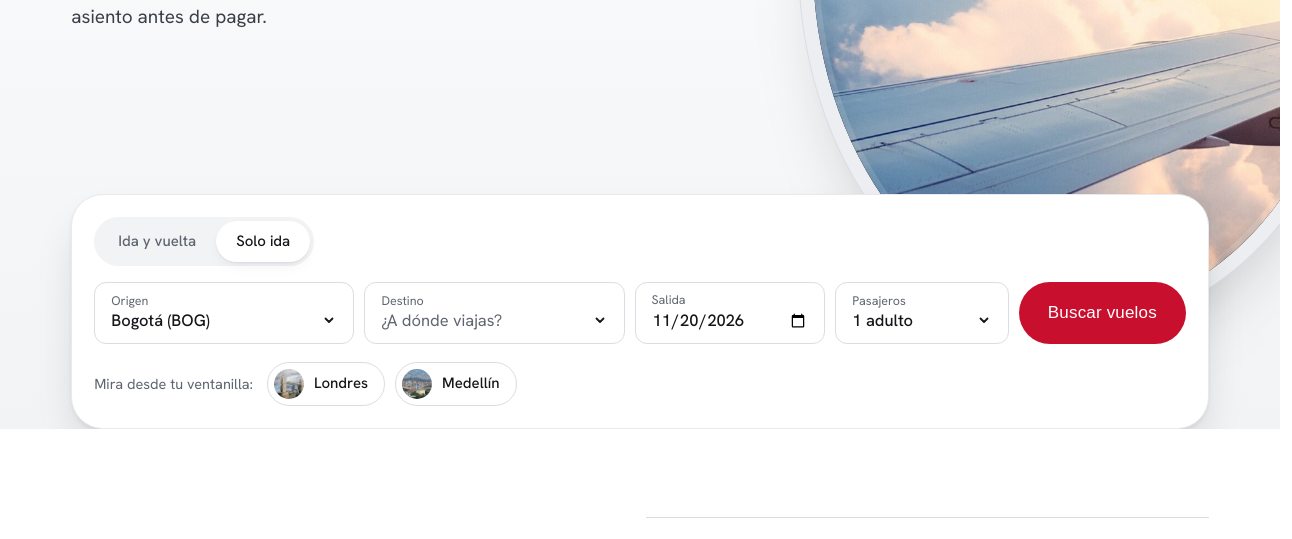
Test: Home: autocompletar de origen y destino › si se elige como origen el destino ya elegido, el destino se limpia
(page scrolled)
Expected: the dropdown labelled "Origen" holds "Bogotá (BOG)", left=111, top=308, right=337, bottom=332
Click the dropdown labelled "Destino" at (494, 320), box left=381, top=308, right=608, bottom=332
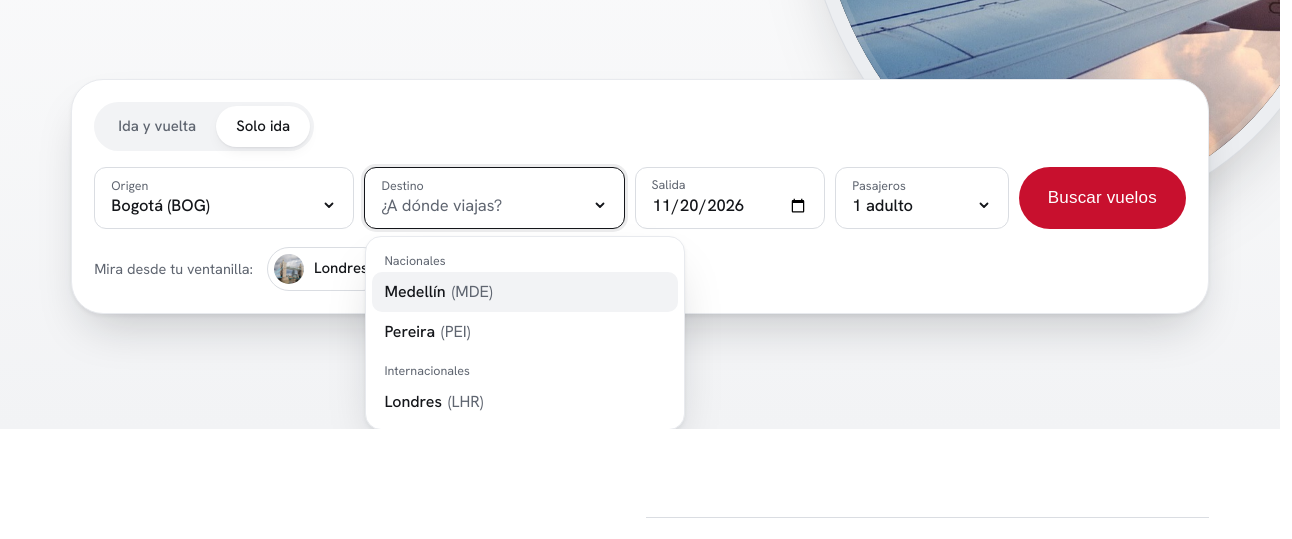
Type "pereira" into the dropdown labelled "Destino" at (494, 205), box left=381, top=193, right=608, bottom=217
Then press Enter
(page scrolled)
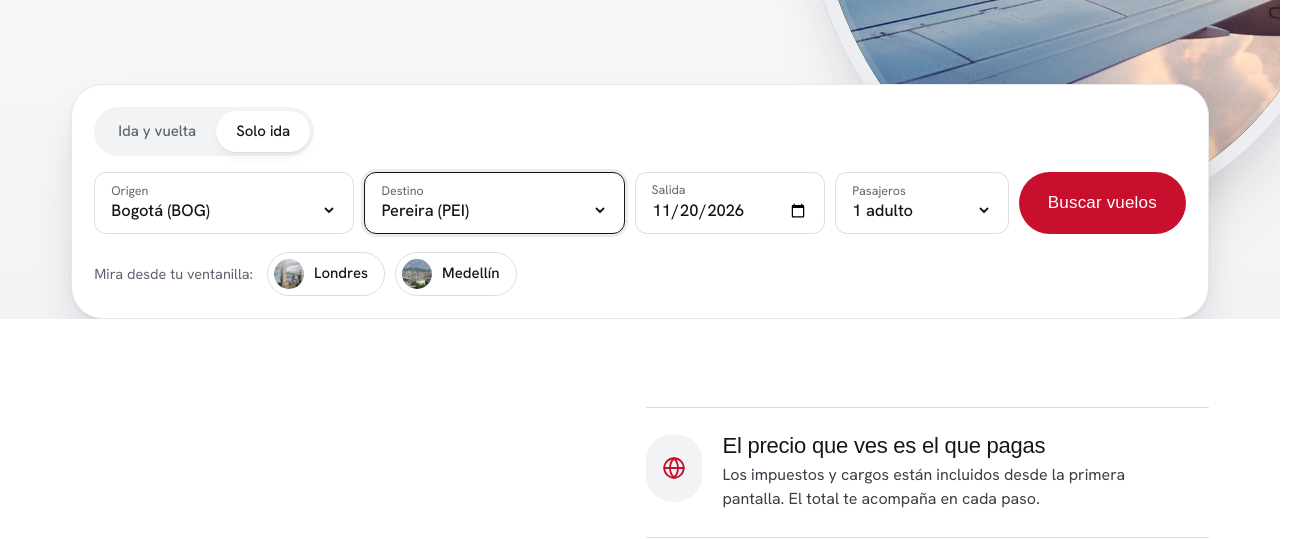
Result: the dropdown labelled "Destino" holds "Pereira (PEI)" at left=381, top=198, right=608, bottom=222
Click the dropdown labelled "Origen" at (224, 210), box left=111, top=198, right=337, bottom=222
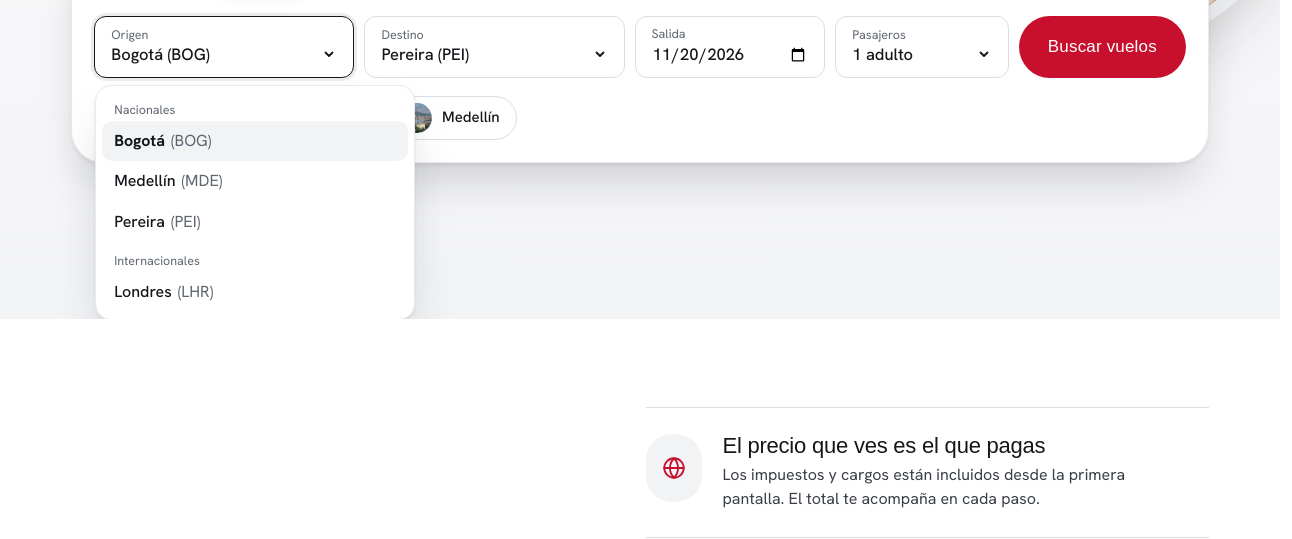
Replace the text in the dropdown labelled "Origen" with "pei" at (224, 54), box left=111, top=42, right=337, bottom=66
Then press Enter
(page scrolled)
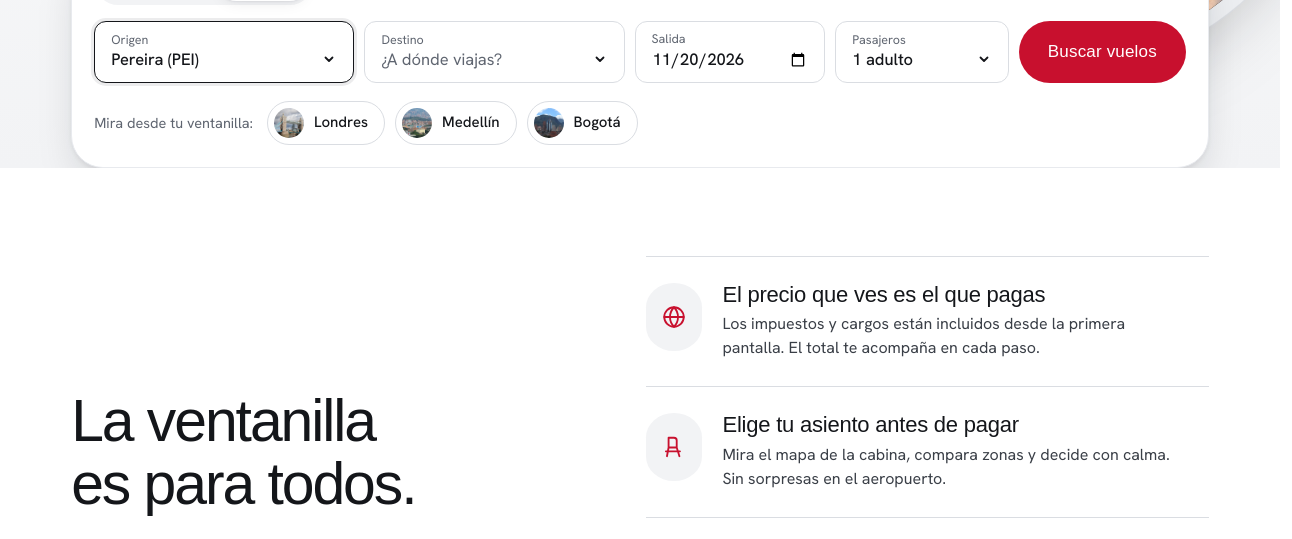
Result: the dropdown labelled "Origen" holds "Pereira (PEI)" at left=111, top=47, right=337, bottom=71
Result: the dropdown labelled "Destino" is empty at left=381, top=47, right=608, bottom=71
